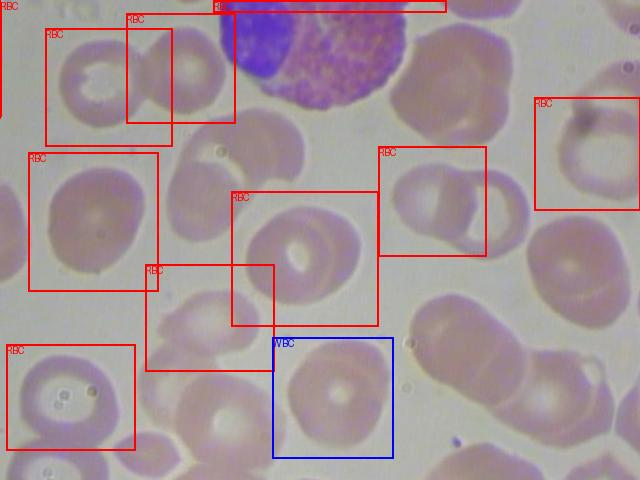RBC: (231, 191, 378, 326), (28, 152, 158, 291), (45, 28, 172, 146), (145, 264, 274, 371), (6, 344, 135, 450), (126, 13, 235, 123), (534, 97, 640, 210), (378, 146, 486, 256), (213, 0, 446, 12)
WBC: (272, 337, 393, 458)
